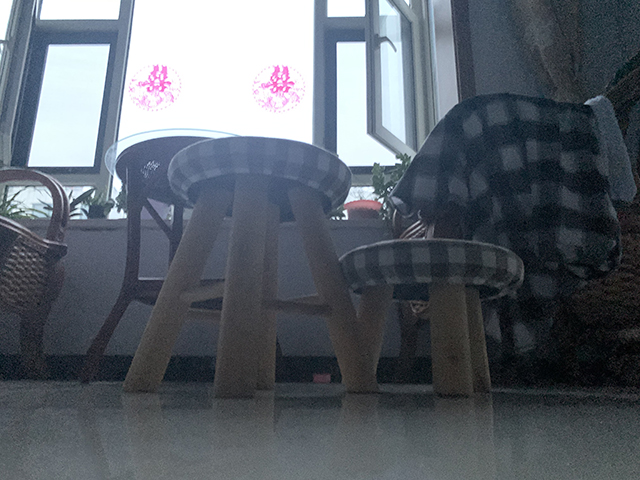sofa: (391, 51, 640, 388)
stool: (120, 135, 383, 399), (338, 236, 526, 399)
table: (77, 127, 289, 383)
